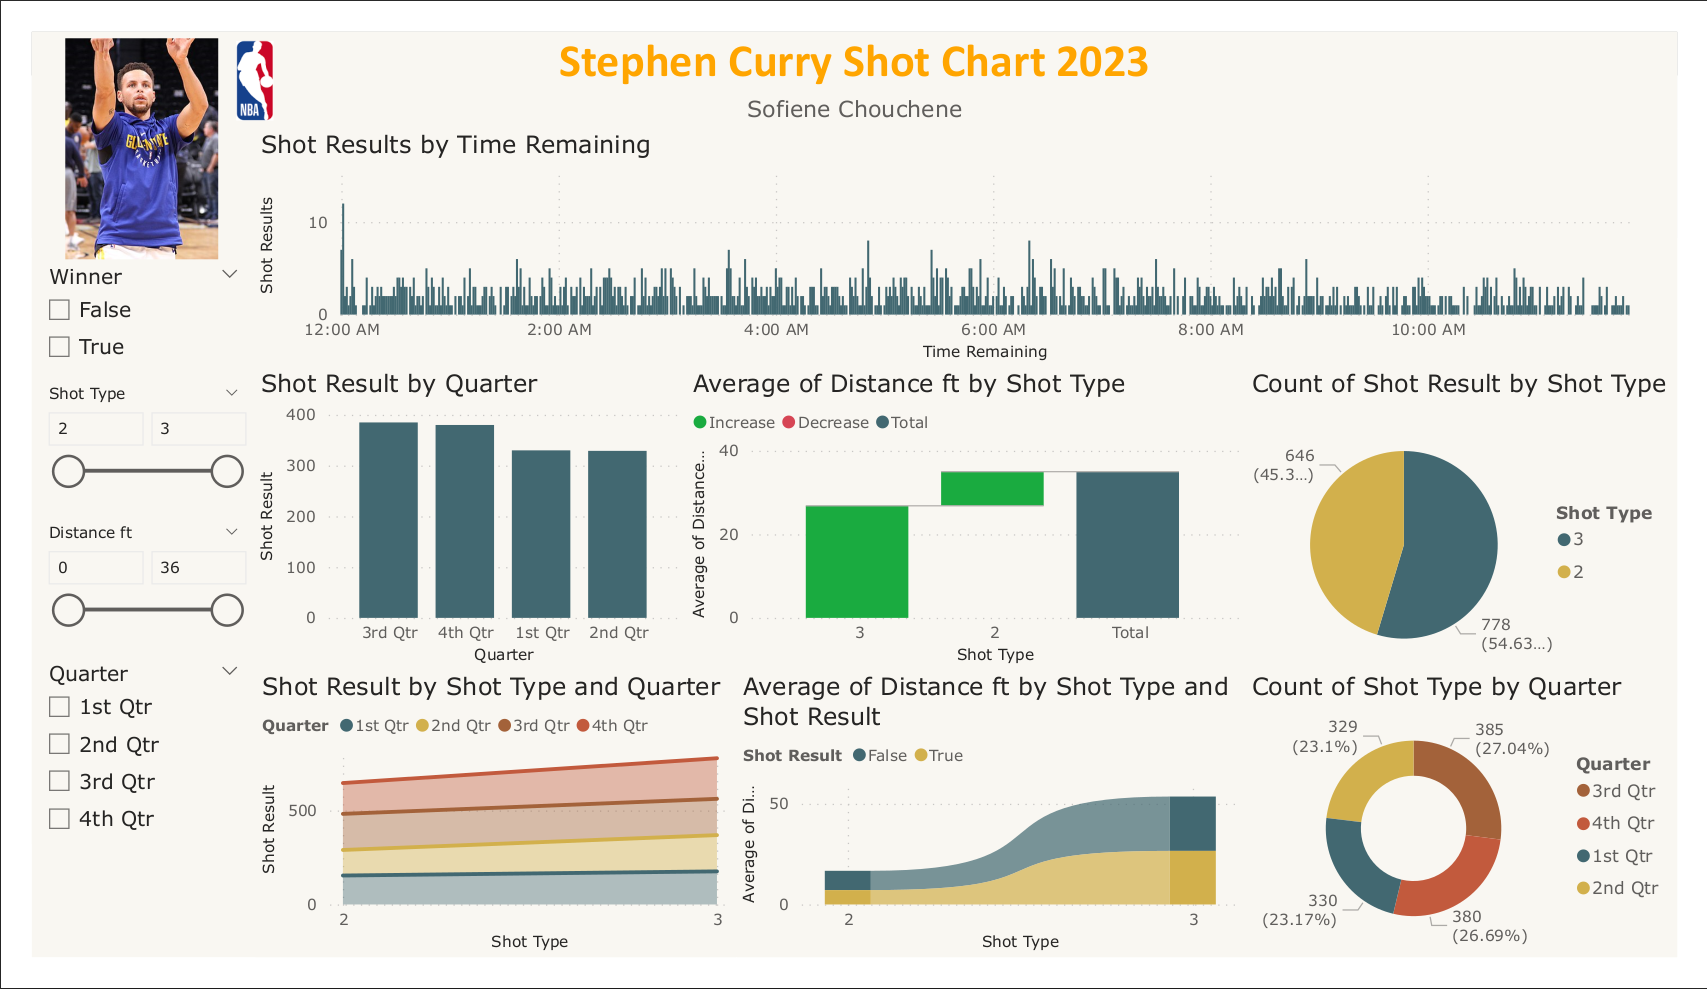

The page's visual inventory and layout, read from the dashboard file:
{"tool":"powerbi","page":{"name":"Page 1","canvas":[1280,720],"ordinal":0},"visuals":[{"type":"pieChart","fields":{"Category":["out.shot_type"],"Y":["CountNonNull(out.result)"]},"box":[944.2,261,335.8,253.3],"z":0},{"type":"slicer","fields":{"Values":["out.Winner"]},"box":[0,174.6,172.7,94],"z":1000},{"type":"slicer","fields":{"Values":["out.Shot Type"]},"box":[0,269,172.7,108.4],"z":2000},{"type":"slicer","fields":{"Values":["out.Quarter"]},"box":[0,484,172.7,147.8],"z":3000},{"type":"slicer","fields":{"Values":["out.Distance ft"]},"box":[0,377.5,172.7,106.5],"z":4000},{"type":"textbox","title":"Stephen Curry Shot Chart 2023","box":[0,0,1280,74.8],"z":6000},{"type":"columnChart","fields":{"Category":["out.Quarter"],"Y":["CountNonNull(out.Shot Result)"]},"box":[172.7,261,335.8,236],"z":7000},{"type":"stackedAreaChart","fields":{"Category":["out.Shot Type"],"Series":["out.Quarter"],"Y":["CountNonNull(out.Shot Result)"]},"box":[173.7,497,374.2,222.6],"z":8000},{"type":"lineStackedColumnComboChart","fields":{"Category":["out.Time Remaining"],"Y":["CountNonNull(out.Shot Result)"]},"box":[172.7,74.8,1107.3,186.1],"z":9000},{"type":"image","box":[154.5,0,38.4,74.8],"z":9001},{"type":"image","box":[17.3,0,137.2,182.3],"z":9002},{"type":"waterfallChart","fields":{"Category":["out.Shot Type"],"Y":["Avg(out.Distance ft)"]},"box":[508.5,261,435.6,236],"z":9003},{"type":"donutChart","fields":{"Category":["out.Quarter"],"Y":["CountNonNull(out.Shot Type)"]},"box":[944.2,497,335.8,222.6],"z":9004},{"type":"ribbonChart","fields":{"Y":["Avg(out.Distance ft)"],"Series":["out.Shot Result"],"Category":["out.Shot Type"]},"box":[547.9,497,396.3,222.6],"z":9005}]}

Visuals, with their boxes in screenshot pixels (x1, y1, x2, y2), scaled from the page's 1280x720 canvas onto the 1707x989 screenshot:
pieChart - out.shot_type x CountNonNull(out.result): bbox=[1259, 359, 1706, 706]
slicer - out.Winner: bbox=[0, 240, 230, 369]
slicer - out.Shot Type: bbox=[0, 370, 230, 518]
slicer - out.Quarter: bbox=[0, 665, 230, 868]
slicer - out.Distance ft: bbox=[0, 519, 230, 665]
"Stephen Curry Shot Chart 2023" textbox: bbox=[0, 0, 1706, 103]
columnChart - out.Quarter x CountNonNull(out.Shot Result): bbox=[230, 359, 678, 683]
stackedAreaChart - out.Shot Type x out.Quarter: bbox=[232, 683, 731, 988]
lineStackedColumnComboChart - out.Time Remaining x CountNonNull(out.Shot Result): bbox=[230, 103, 1706, 358]
image: bbox=[206, 0, 257, 103]
image: bbox=[23, 0, 206, 250]
waterfallChart - out.Shot Type x Avg(out.Distance ft): bbox=[678, 359, 1259, 683]
donutChart - out.Quarter x CountNonNull(out.Shot Type): bbox=[1259, 683, 1706, 988]
ribbonChart - Avg(out.Distance ft) x out.Shot Result: bbox=[731, 683, 1259, 988]
